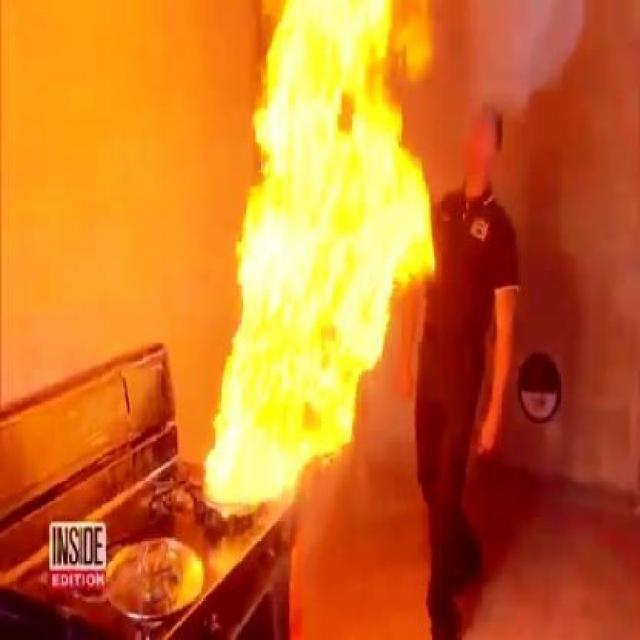fire: (198, 31, 394, 518)
